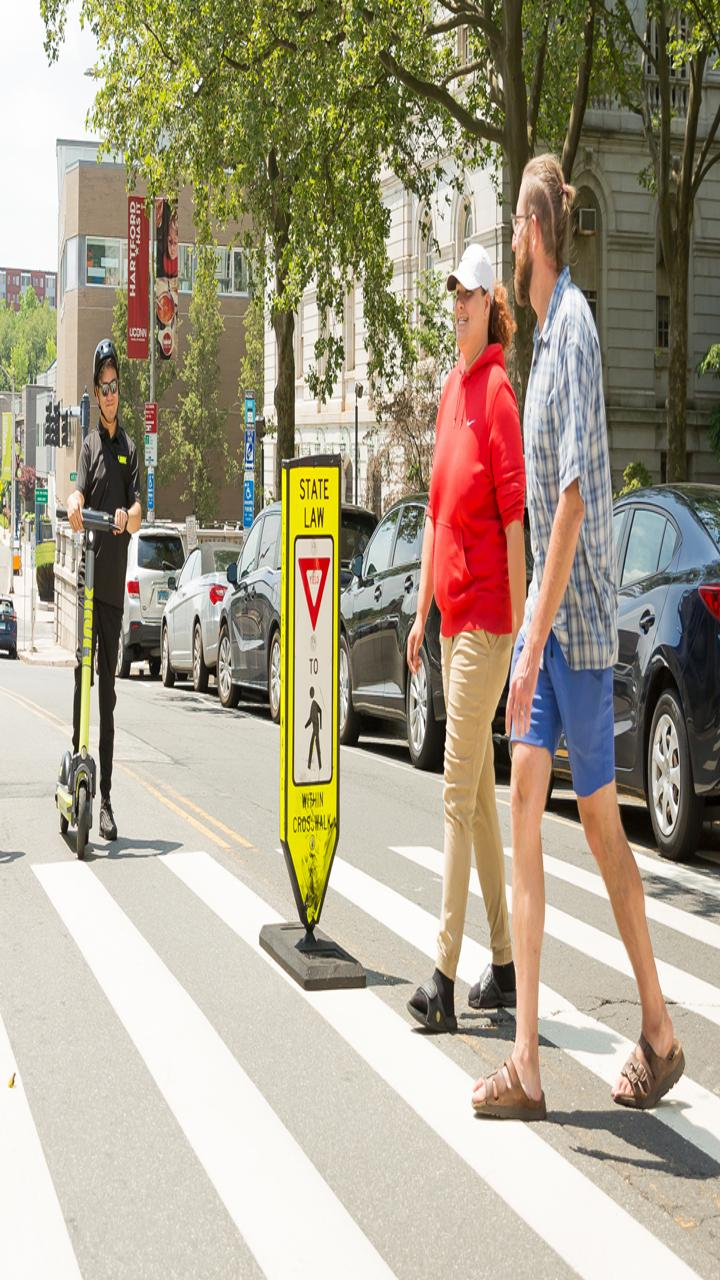Traffic sign: (251, 437, 374, 984)
pedestrian: (472, 115, 694, 1128), (412, 237, 520, 1041), (44, 308, 146, 851)
scooter: (58, 495, 108, 872)
